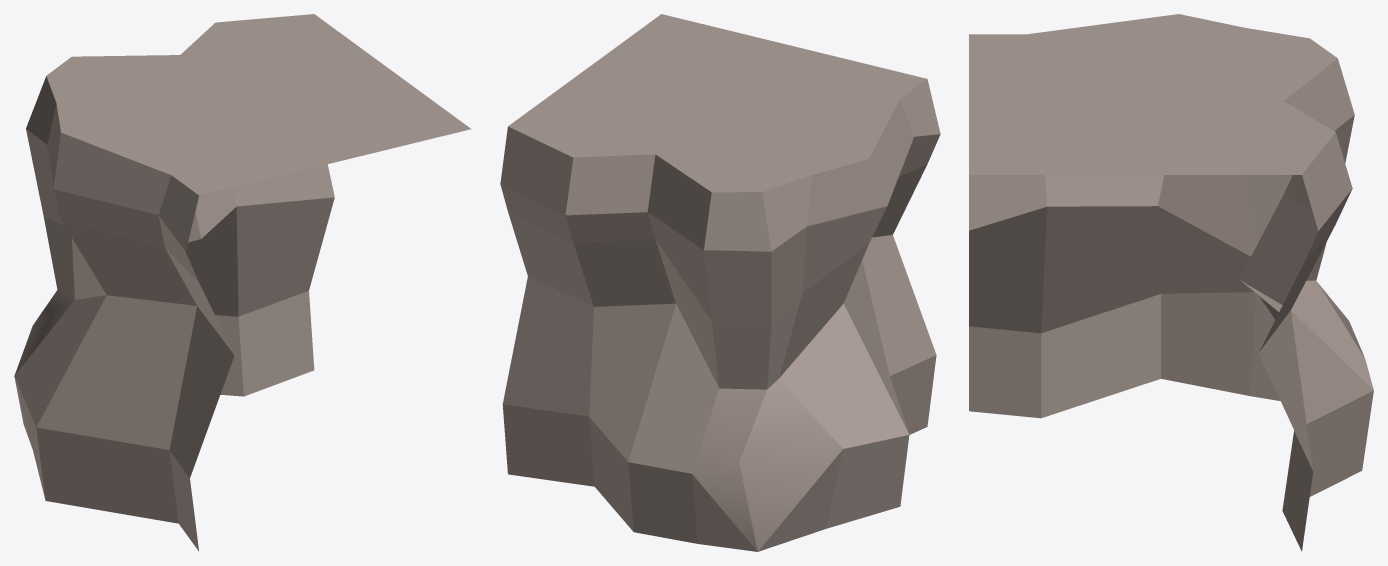
The model's file is ArenaWall_Corner_Outer.fbx.
3 renders of one model, left to right at view 1: azimuth 30°, elevation 25°; view 2: azimuth 150°, elevation 25°; view 3: azimuth 270°, elevation 25°, orthographic. The views are drawn at different scales.
Visible parts, largest first — view 1: ArenaWall_Corner_Outer; view 2: ArenaWall_Corner_Outer; view 3: ArenaWall_Corner_Outer.
Boxes of the visible parts, bbox=[...] form: ArenaWall_Corner_Outer: bbox=[14, 14, 471, 550]; ArenaWall_Corner_Outer: bbox=[500, 14, 940, 551]; ArenaWall_Corner_Outer: bbox=[969, 14, 1373, 551].
Bounding box in the file's own units: 2.53 × 2.5 × 2.43.
